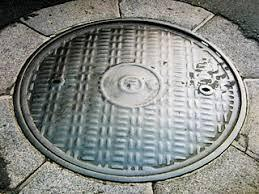closed manhole-not overflowing-: (19, 17, 250, 183)
